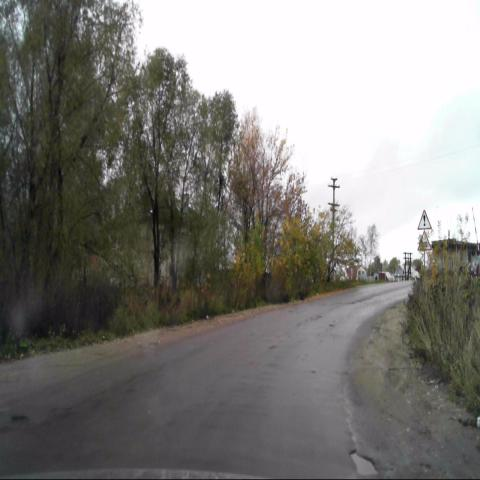1_1: (417, 231, 432, 251)
1_33: (418, 209, 432, 230)
